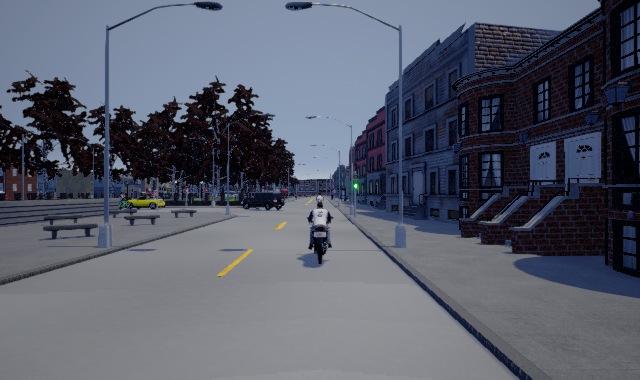motobike: (306, 201, 335, 264)
traffic_light: (353, 172, 358, 191)
vehicle: (119, 191, 166, 211), (241, 192, 285, 210)
